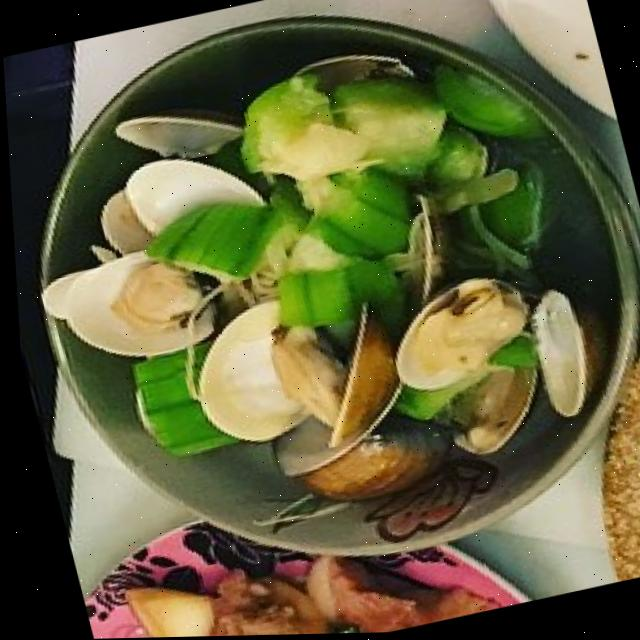Wet: (58, 35, 640, 536)
